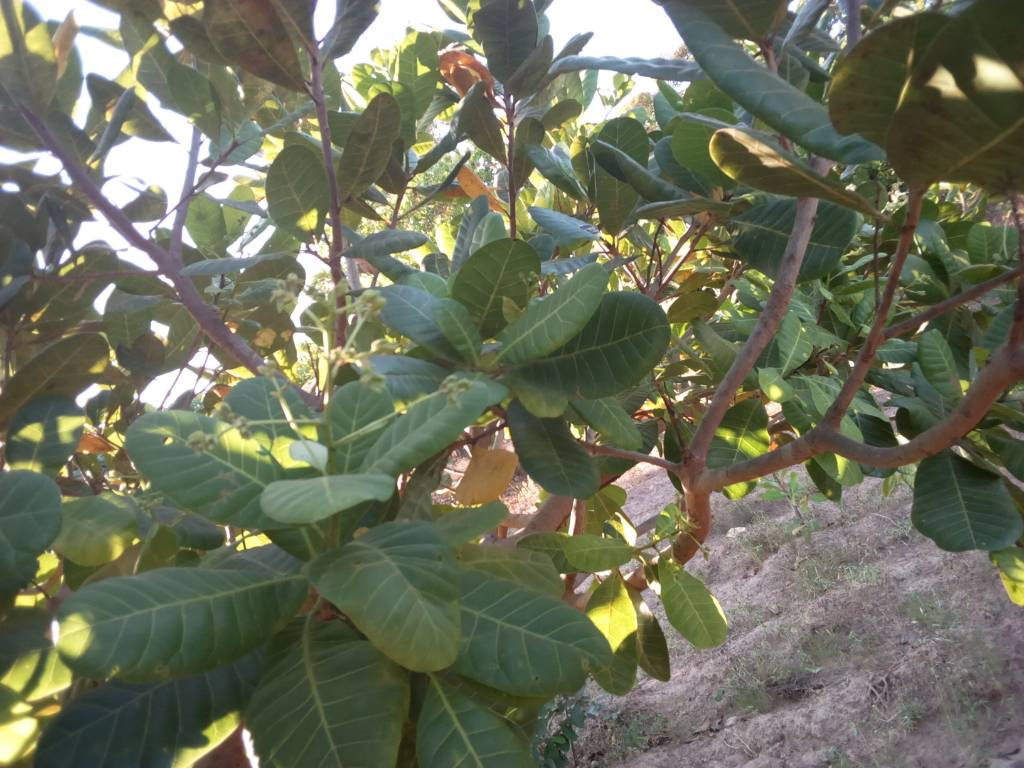Helopeltis anacardii: (706, 129, 875, 208)
